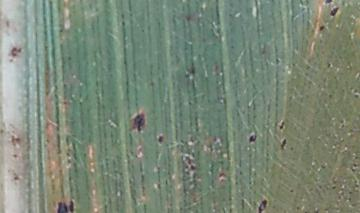tarspot: (128, 110, 146, 134), (55, 198, 77, 213), (184, 62, 195, 80), (257, 198, 268, 213), (247, 130, 258, 144), (10, 134, 21, 148), (328, 6, 340, 18), (183, 13, 193, 24), (9, 46, 18, 58), (156, 134, 165, 145), (280, 138, 288, 150), (317, 24, 326, 33), (188, 163, 197, 172), (278, 120, 285, 131), (118, 19, 127, 27), (217, 171, 227, 178), (326, 92, 334, 100), (183, 155, 191, 163), (260, 48, 268, 56), (12, 175, 21, 182), (318, 162, 327, 169), (274, 57, 281, 66), (189, 149, 196, 158), (188, 135, 195, 144), (11, 153, 19, 160), (349, 166, 356, 174), (351, 161, 359, 168), (312, 206, 320, 213), (228, 43, 235, 51), (237, 169, 244, 177), (186, 99, 193, 107), (17, 45, 22, 56), (66, 55, 73, 62), (58, 27, 65, 34), (288, 188, 295, 195), (330, 184, 337, 191), (139, 27, 146, 34), (289, 145, 295, 153), (323, 1, 334, 5), (326, 62, 332, 69), (353, 93, 360, 99), (339, 123, 345, 130), (353, 183, 360, 189), (43, 44, 49, 51), (7, 57, 14, 63), (234, 179, 239, 187), (353, 155, 359, 161), (295, 205, 301, 211), (347, 189, 353, 195), (339, 117, 344, 124), (353, 177, 358, 184), (347, 196, 352, 202), (1, 128, 5, 135), (302, 210, 309, 213)
